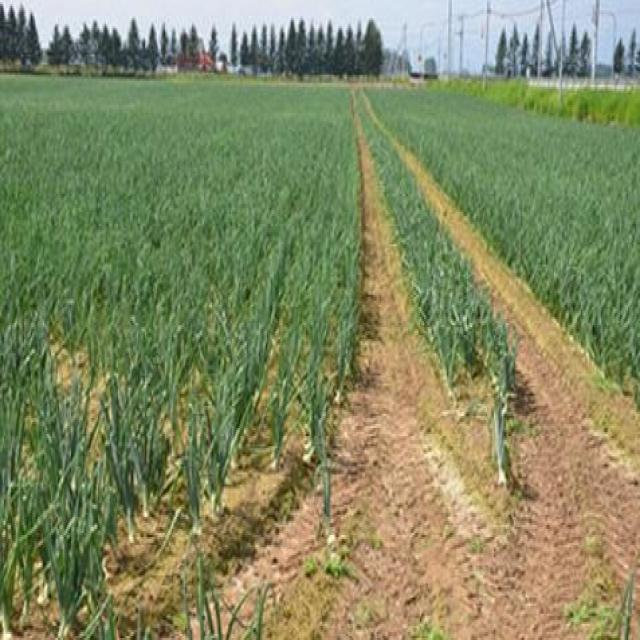row: (365, 99, 640, 471), (346, 100, 488, 532)
